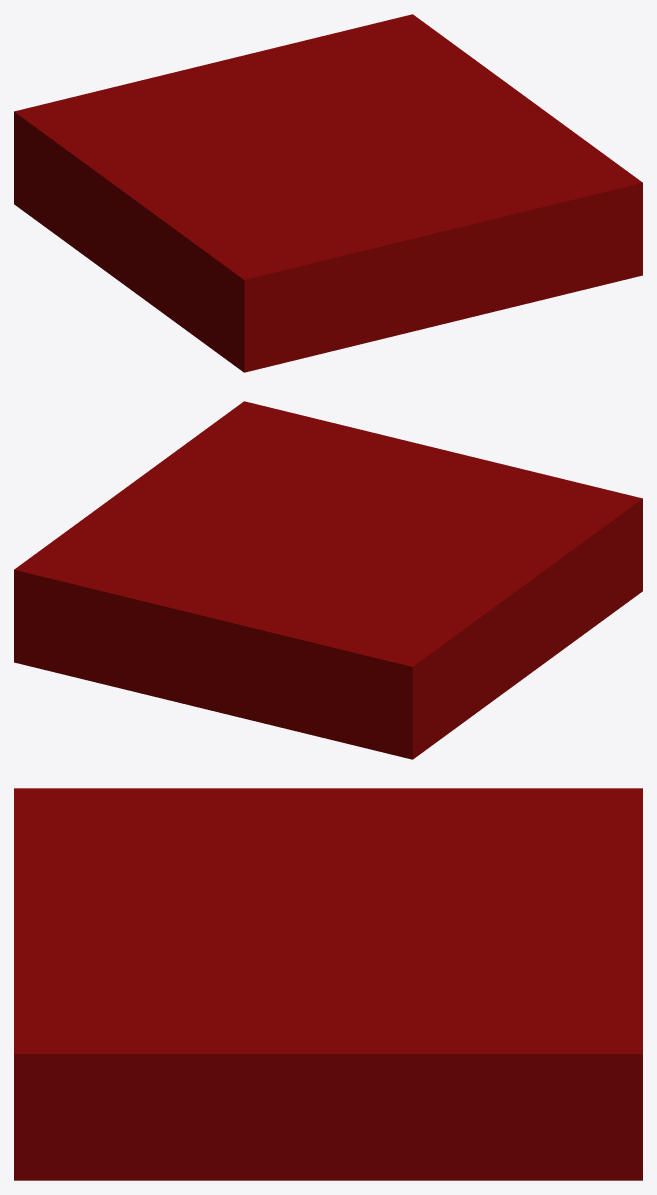
File: ExporterObject.fbx
The picture shows the model from 3 angles, top to bottom: view 1: azimuth 30°, elevation 25°; view 2: azimuth 150°, elevation 25°; view 3: azimuth 270°, elevation 25°; orthographic projection. The views are drawn at different scales.
Parts seen in each view (by area): view 1: VoxelMesh(Clone); view 2: VoxelMesh(Clone); view 3: VoxelMesh(Clone).
Boxes of the visible parts, left/top/right/bottom form: VoxelMesh(Clone): left=14, top=14, right=642, bottom=372; VoxelMesh(Clone): left=14, top=401, right=642, bottom=759; VoxelMesh(Clone): left=14, top=788, right=642, bottom=1180.
Bounding box in the file's own units: 9 × 2 × 9.
